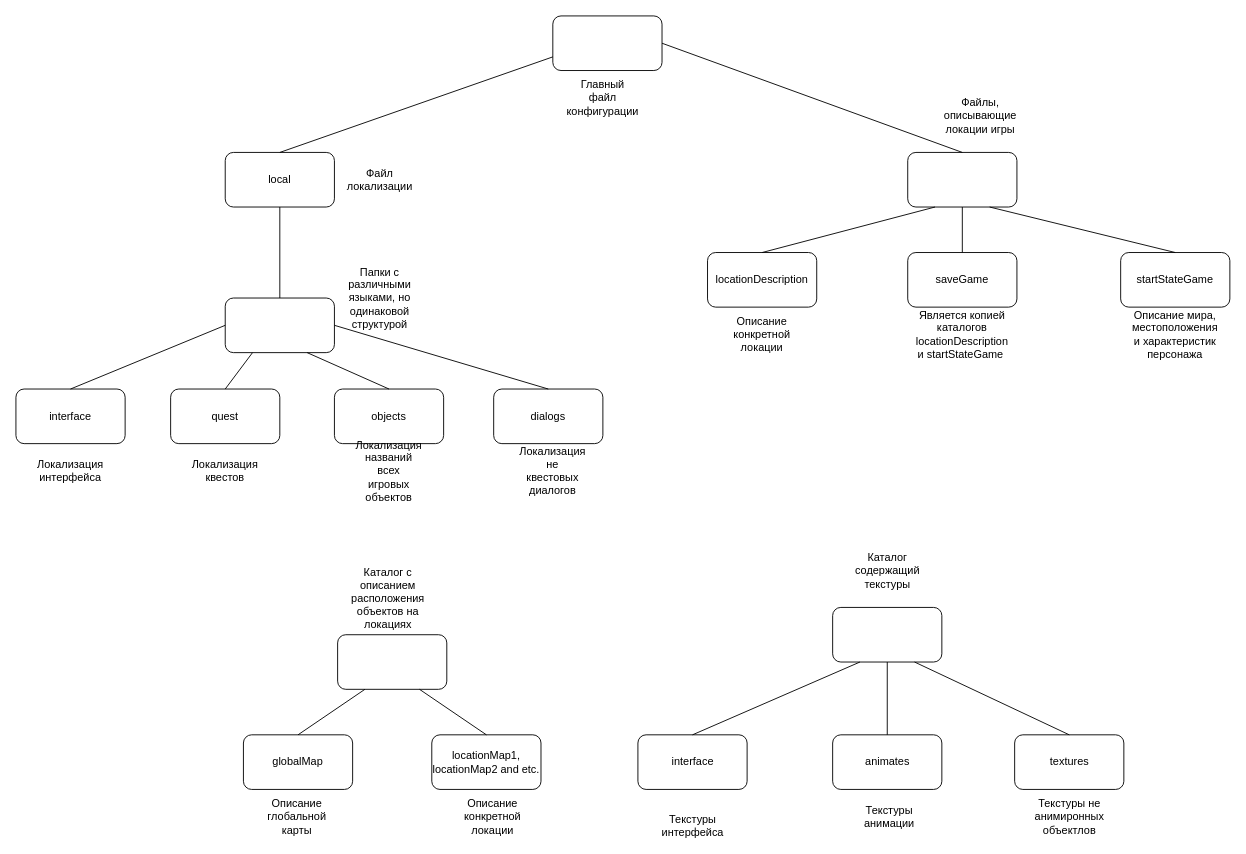
Image size: 1246x854. Some labels were removed from this diagram. Each missing label, with the centre of its shape:
config: the point at 607,43
documents: the point at 962,179
mapConfig: the point at 392,661
rus, eng et al.: the point at 279,325
texturesConfig: the point at 887,634
